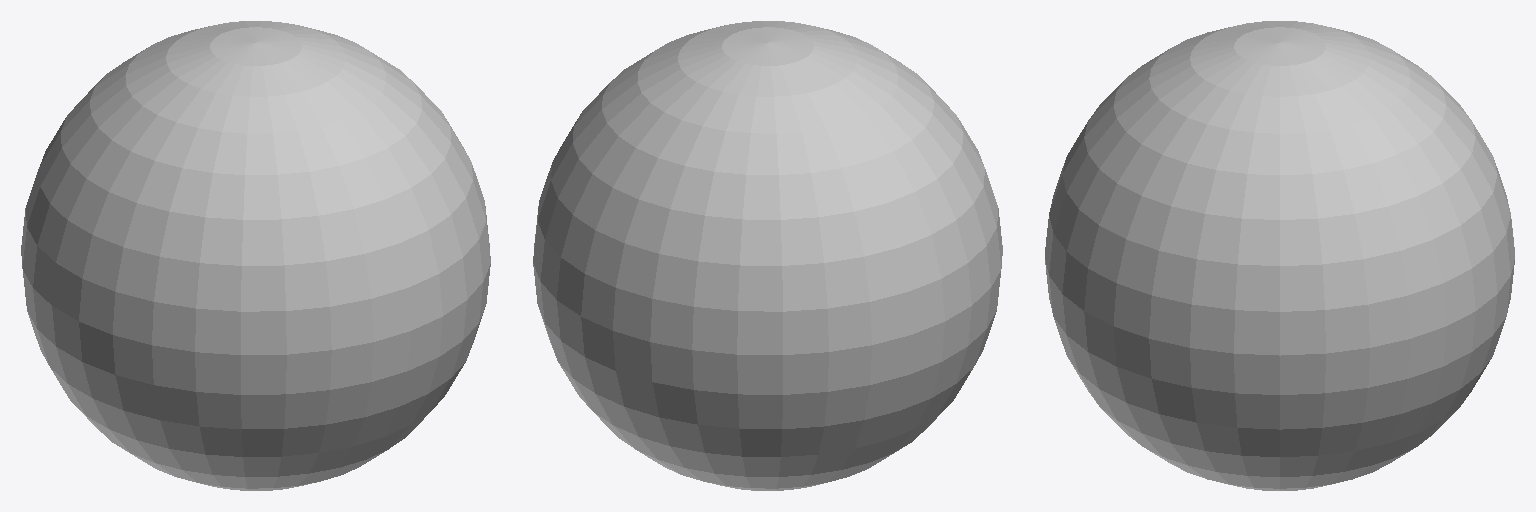
The model's file is leavesCloudSphere.obj.
3 renders of one model, left to right at view 1: azimuth 30°, elevation 25°; view 2: azimuth 150°, elevation 25°; view 3: azimuth 270°, elevation 25°, orthographic.
Visible parts, largest first — view 1: impostor.002_Sphere.002; view 2: impostor.002_Sphere.002; view 3: impostor.002_Sphere.002.
Part boxes in pixels (x1,y1,x2,y2): impostor.002_Sphere.002: (21, 21, 490, 490); impostor.002_Sphere.002: (533, 21, 1002, 490); impostor.002_Sphere.002: (1045, 21, 1514, 490).
Size of the model in its own units: 1 by 1 by 1.